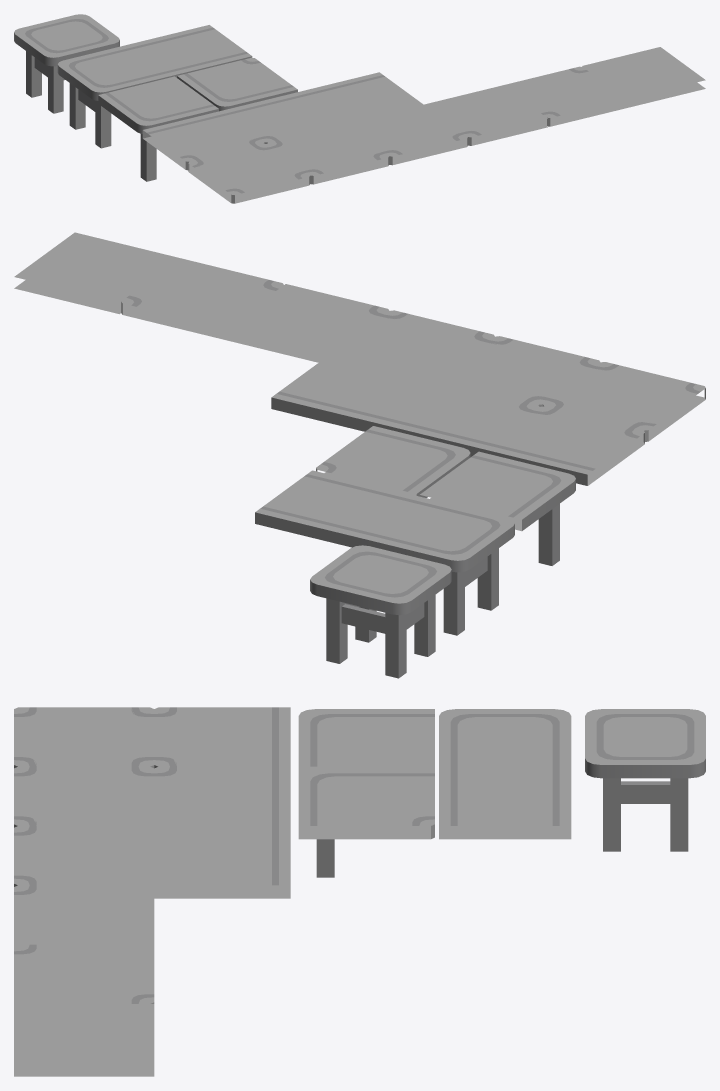
Rendered from table-basic.fbx.
3 renders of one model, top to bottom at view 1: azimuth 30°, elevation 25°; view 2: azimuth 150°, elevation 25°; view 3: azimuth 270°, elevation 25°, orthographic. The views are drawn at different scales.
Parts seen in each view (by area): view 1: Table E, Table O, Table L-1, Table X-1, Table X-6, Table X-5, Table X-2, Table X-3, Table X-4, Table T-1, Table L-2, Table T-2 (+2 smaller); view 2: Table O, Table E, Table L-1, Table X-5, Table X-6, Table X-4, Table T-3, Table T-1, Table I, Table X-1, Table T-2, Table X-2 (+2 smaller); view 3: Table O, Table L-2, Table X-6, Table T-3, Table I, Table X-4, Table X-1, Table X-3, Table X-5, Table X-2, Table L-1, Table T-1 (+2 smaller).
Boxes of the visible parts, <box> form: Table E: <box>57,44,173,148</box>; Table O: <box>14,14,119,113</box>; Table L-1: <box>98,76,218,181</box>; Table X-1: <box>188,143,309,203</box>; Table X-6: <box>582,47,705,107</box>; Table X-5: <box>503,66,626,126</box>; Table X-2: <box>267,124,388,184</box>; Table X-3: <box>345,104,467,165</box>; Table X-4: <box>424,85,547,145</box>; Table T-1: <box>142,111,264,170</box>; Table L-2: <box>177,57,297,111</box>; Table T-2: <box>222,91,344,143</box>; Table O: <box>310,545,451,678</box>; Table E: <box>360,496,514,635</box>; Table L-1: <box>420,451,575,565</box>; Table X-5: <box>121,258,283,339</box>; Table X-6: <box>14,232,179,314</box>; Table X-4: <box>225,284,389,362</box>; Table T-3: <box>271,354,435,431</box>; Table T-1: <box>482,406,644,485</box>; Table I: <box>255,470,417,547</box>; Table X-1: <box>543,362,705,441</box>; Table T-2: <box>376,380,539,456</box>; Table X-2: <box>436,336,600,406</box>; Table O: <box>585,709,705,851</box>; Table L-2: <box>298,768,434,877</box>; Table X-6: <box>14,1004,154,1076</box>; Table T-3: <box>154,826,290,898</box>; Table I: <box>439,766,571,839</box>; Table X-4: <box>14,885,154,946</box>; Table X-1: <box>14,707,154,768</box>; Table X-3: <box>14,826,154,886</box>; Table X-5: <box>14,944,154,1003</box>; Table X-2: <box>14,766,154,827</box>; Table L-1: <box>298,709,434,774</box>; Table T-1: <box>154,707,290,768</box>.
Bounding box in the file's own units: 6 × 0.7395 × 4.93.
